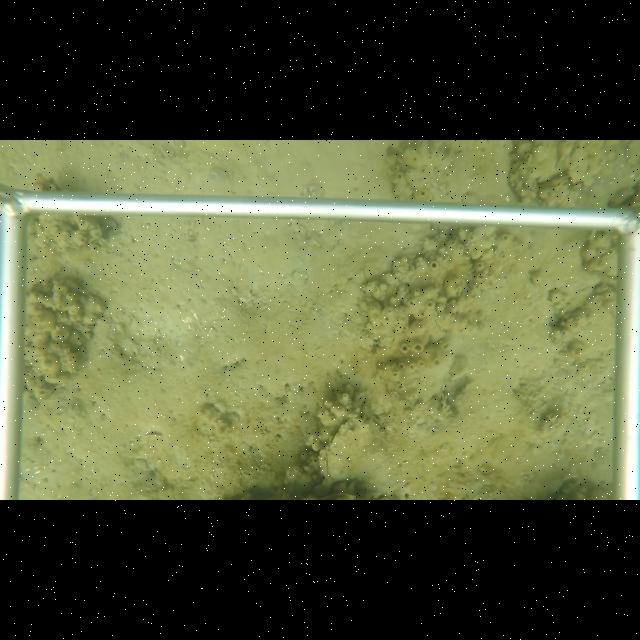Oyster-Closed: (317, 416, 418, 498)
